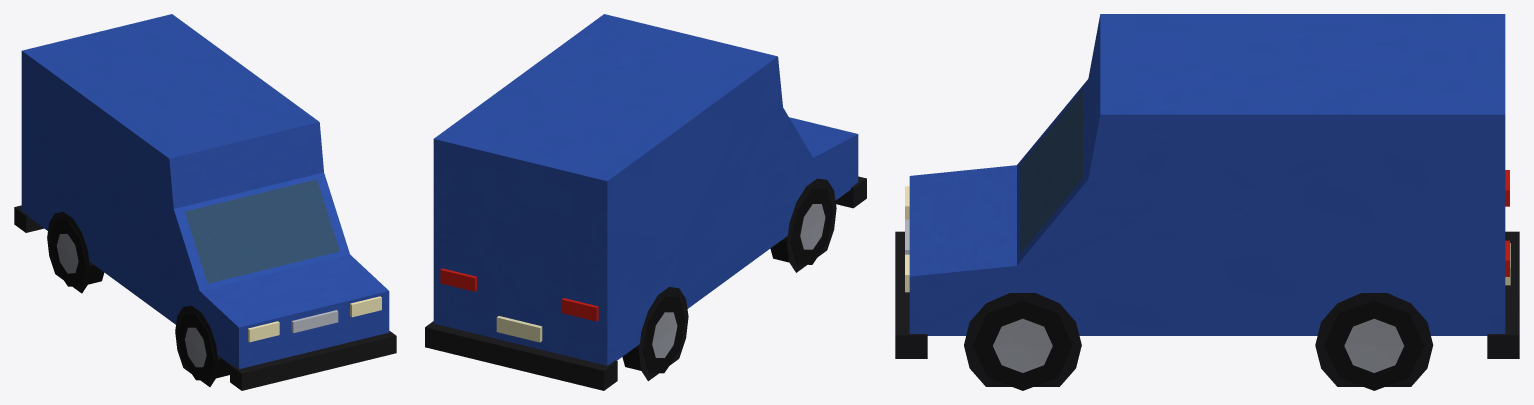
File: van-blue-far.glb
3 views of the same model, side by side, from view 1: azimuth 30°, elevation 25°; view 2: azimuth 150°, elevation 25°; view 3: azimuth 270°, elevation 25° (orthographic). The views are drawn at different scales.
Parts seen in each view (by area): view 1: van-blue-far; view 2: van-blue-far; view 3: van-blue-far.
Part boxes in pixels (<box>): van-blue-far: <box>14,14,396,390</box>; van-blue-far: <box>425,14,866,390</box>; van-blue-far: <box>895,14,1519,390</box>.
Size of the model in its own units: 2.06 by 2.55 by 5.24.
Materials: 1 (1 with a texture image).
